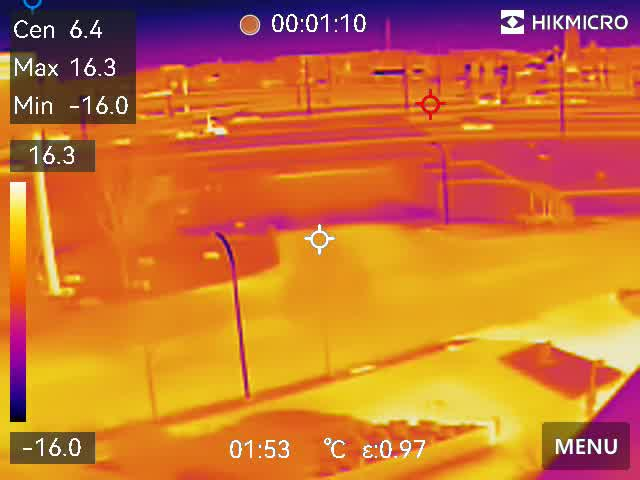heavyTruck: (127, 114, 237, 147)
vehicle: (457, 115, 501, 135), (473, 90, 505, 109)
